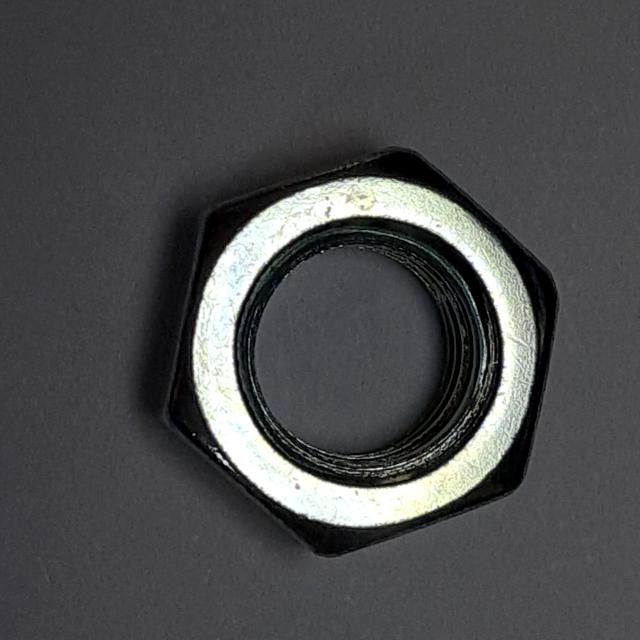Excellent: (143, 126, 567, 575)
